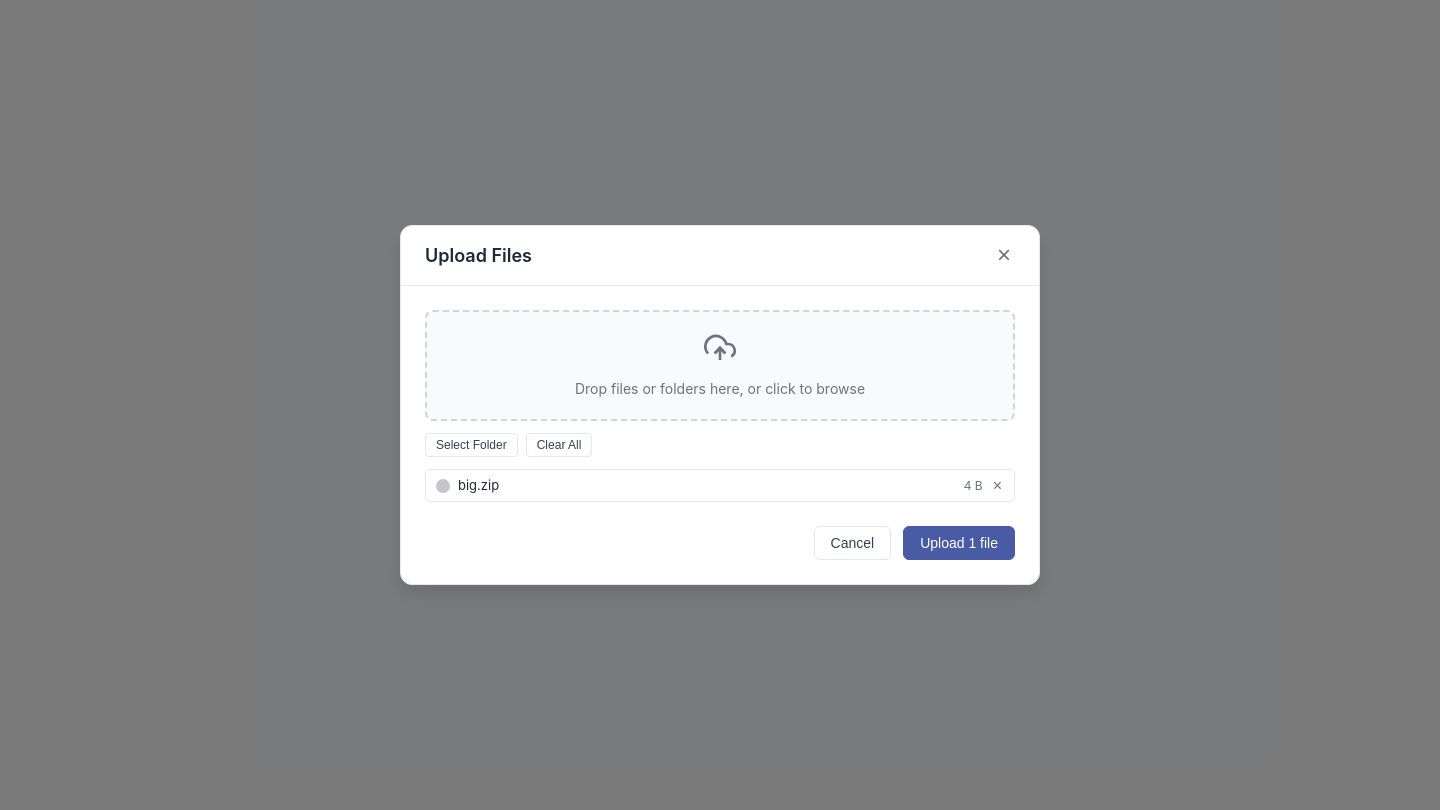
Test: UploadFileModal › ignores backdrop clicks during an upload so it is not cancelled by accident
The width and height of the screenshot is (1440, 810).
Earlier steps of the test are not shown.
Later steps or results of the test are not shown.
Step 1. Click the button "Upload 1 file" → {"x": 959, "y": 543}, box [903, 526, 1015, 560]
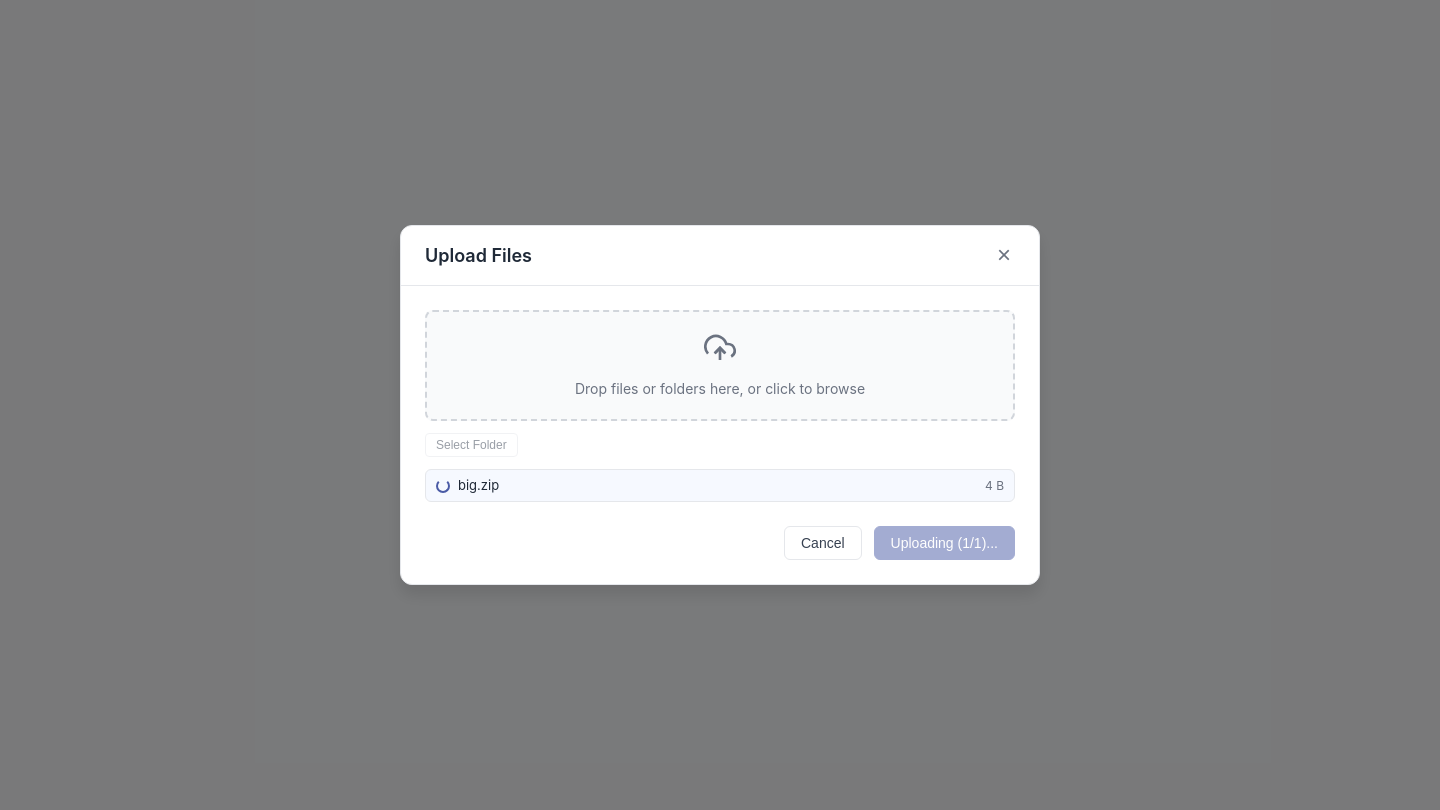
Step 2. Click the element with class "modal-backdrop" → {"x": 86, "y": 405}, box [0, 0, 1439, 809]
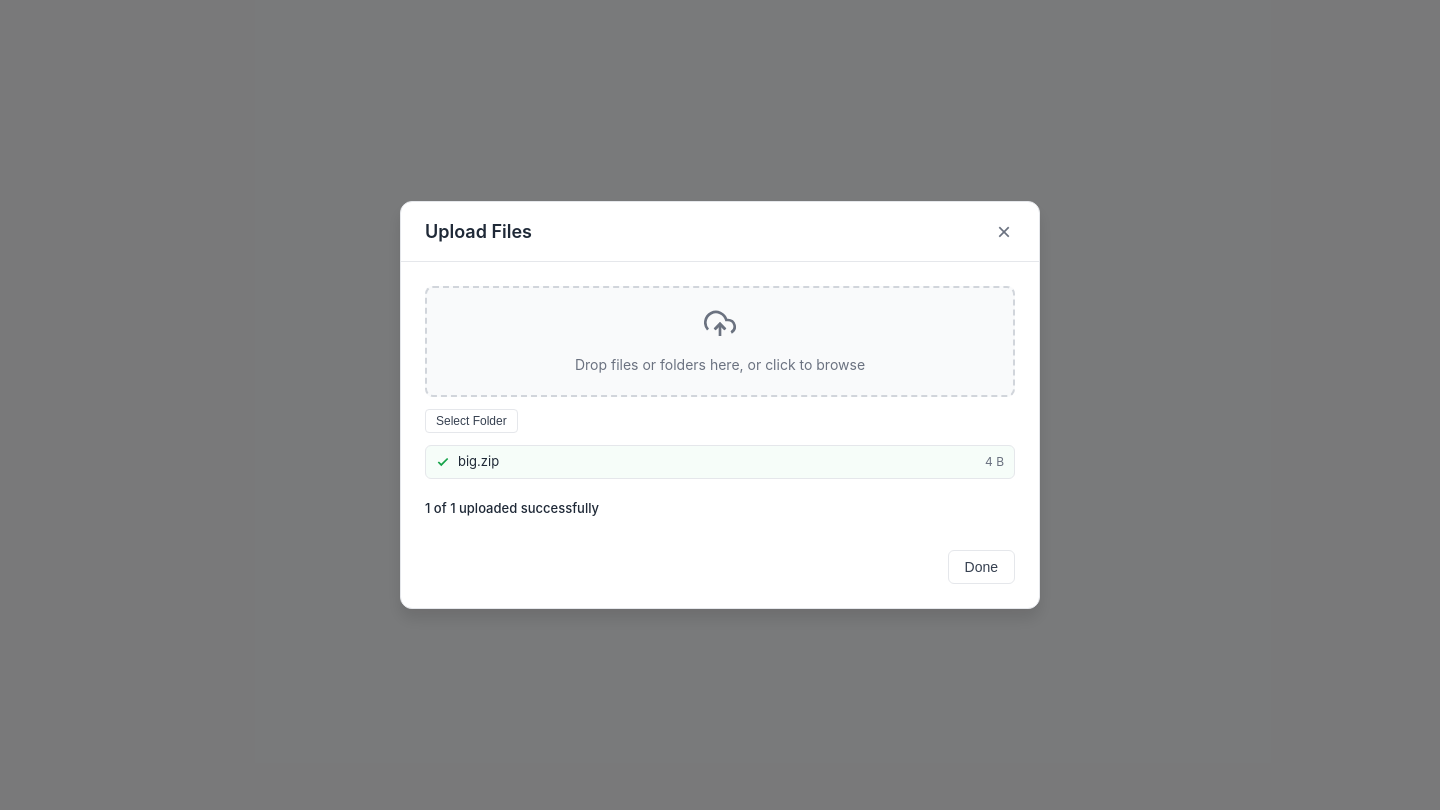
Expected: the text "1 of 1 uploaded successfully" is shown, [425, 500, 599, 516]
